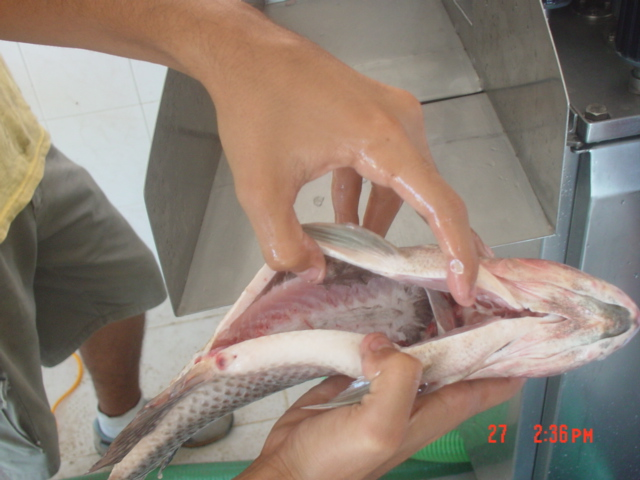fish: (90, 220, 638, 478)
